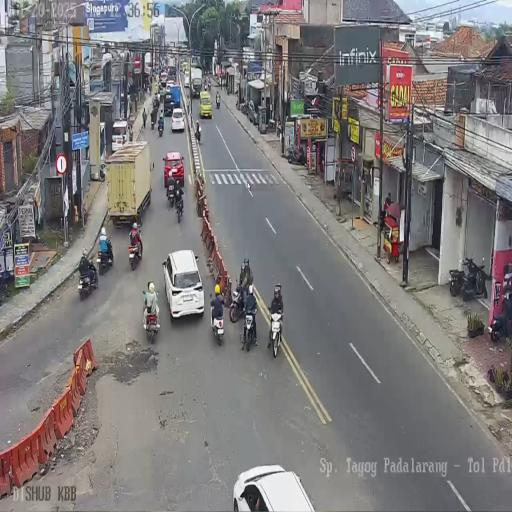car: (231, 464, 316, 510), (162, 249, 204, 319), (162, 150, 184, 189), (111, 119, 130, 151), (199, 90, 212, 118), (171, 108, 185, 132), (163, 91, 175, 117), (247, 100, 258, 124), (154, 68, 162, 85), (166, 79, 175, 93), (183, 70, 190, 88), (160, 69, 168, 83), (182, 62, 189, 73)
motorcycle: (490, 273, 512, 340), (460, 252, 486, 300), (240, 305, 258, 354), (78, 255, 98, 298), (143, 294, 160, 342), (209, 296, 225, 346), (229, 282, 248, 324), (269, 308, 283, 356), (97, 236, 114, 274), (128, 232, 142, 270), (286, 145, 304, 166), (174, 191, 184, 223), (166, 179, 176, 210), (195, 127, 202, 145), (276, 119, 282, 139), (158, 120, 164, 137), (241, 99, 247, 115), (150, 110, 155, 129), (204, 78, 211, 91), (216, 94, 220, 108), (148, 82, 151, 96), (235, 84, 238, 95)
truck: (104, 140, 153, 228), (190, 66, 203, 98), (167, 56, 177, 75)
